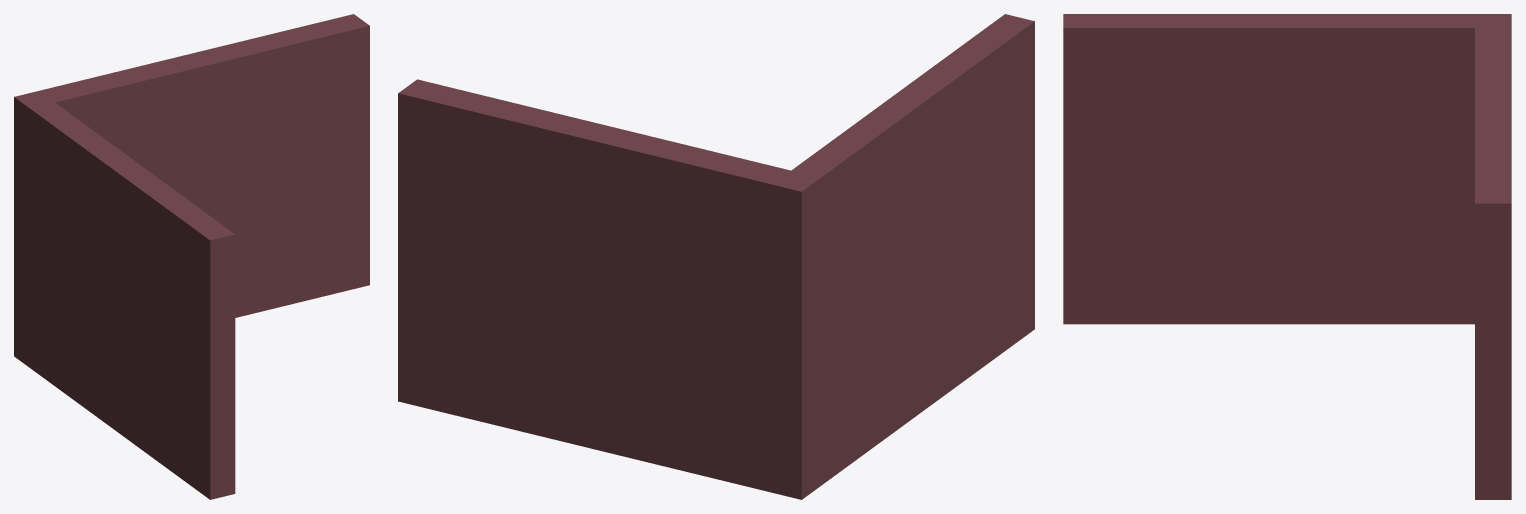
File: wall.fbx
The picture shows the model from 3 angles, left to right: view 1: azimuth 30°, elevation 25°; view 2: azimuth 150°, elevation 25°; view 3: azimuth 270°, elevation 25°; orthographic projection. The views are drawn at different scales.
Visible parts, largest first — view 1: Wall; view 2: Wall; view 3: Wall.
Boxes of the visible parts, <box> form: Wall: <box>14,14,369,499</box>; Wall: <box>398,14,1034,499</box>; Wall: <box>1063,14,1511,499</box>.
Bounding box in the file's own units: 1283 × 936 × 1283.
